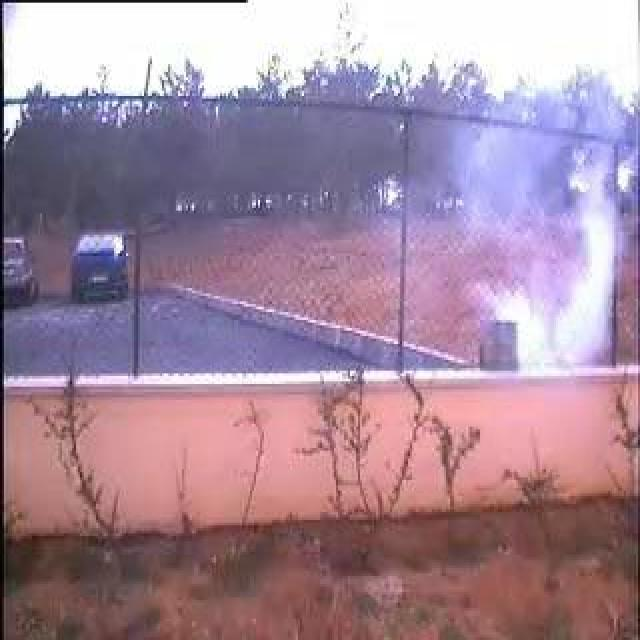Smoke: (454, 96, 622, 368)
